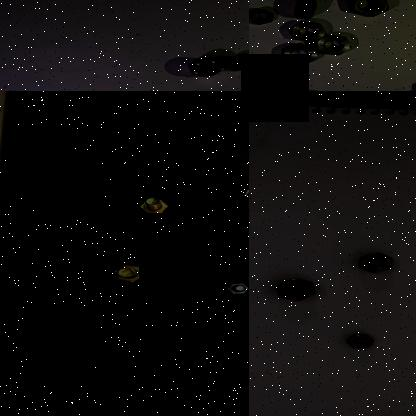Bolts: (110, 261, 148, 287), (136, 195, 176, 215), (221, 278, 249, 296), (156, 235, 177, 246), (241, 185, 249, 201)
NUTS: (273, 275, 317, 303), (356, 250, 396, 275), (276, 43, 323, 64), (312, 34, 354, 57), (188, 52, 226, 76), (288, 19, 326, 40), (350, 0, 392, 17), (264, 62, 298, 82), (346, 330, 376, 350), (249, 6, 276, 27), (249, 78, 287, 91), (293, 0, 317, 20), (224, 52, 249, 71)
